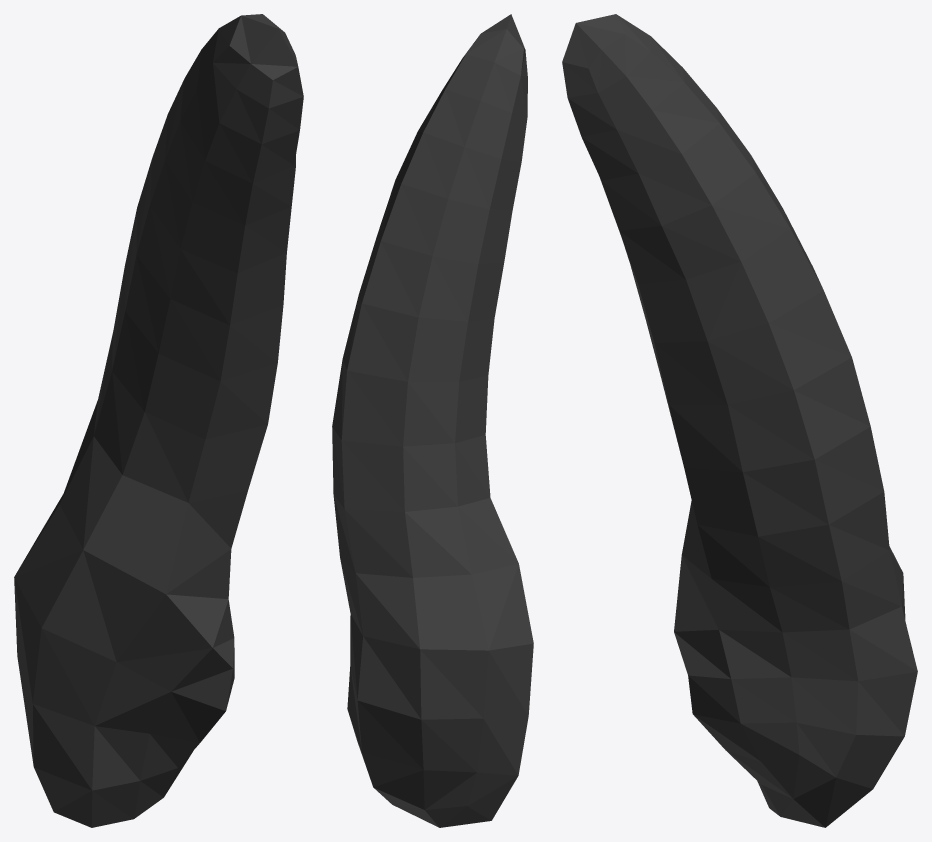
The picture shows the model from 3 angles, left to right: view 1: azimuth 30°, elevation 25°; view 2: azimuth 150°, elevation 25°; view 3: azimuth 270°, elevation 25°; orthographic projection. The views are drawn at different scales.
Parts seen in each view (by area): view 1: world; view 2: world; view 3: world.
Part boxes in pixels (x1,y1,x2,y2): world: [14, 14, 303, 827]; world: [332, 14, 533, 827]; world: [562, 14, 917, 827].
Size of the model in its own units: 0.0193 by 0.0723 by 0.0286.
Materials: 1 (1 with a texture image).
